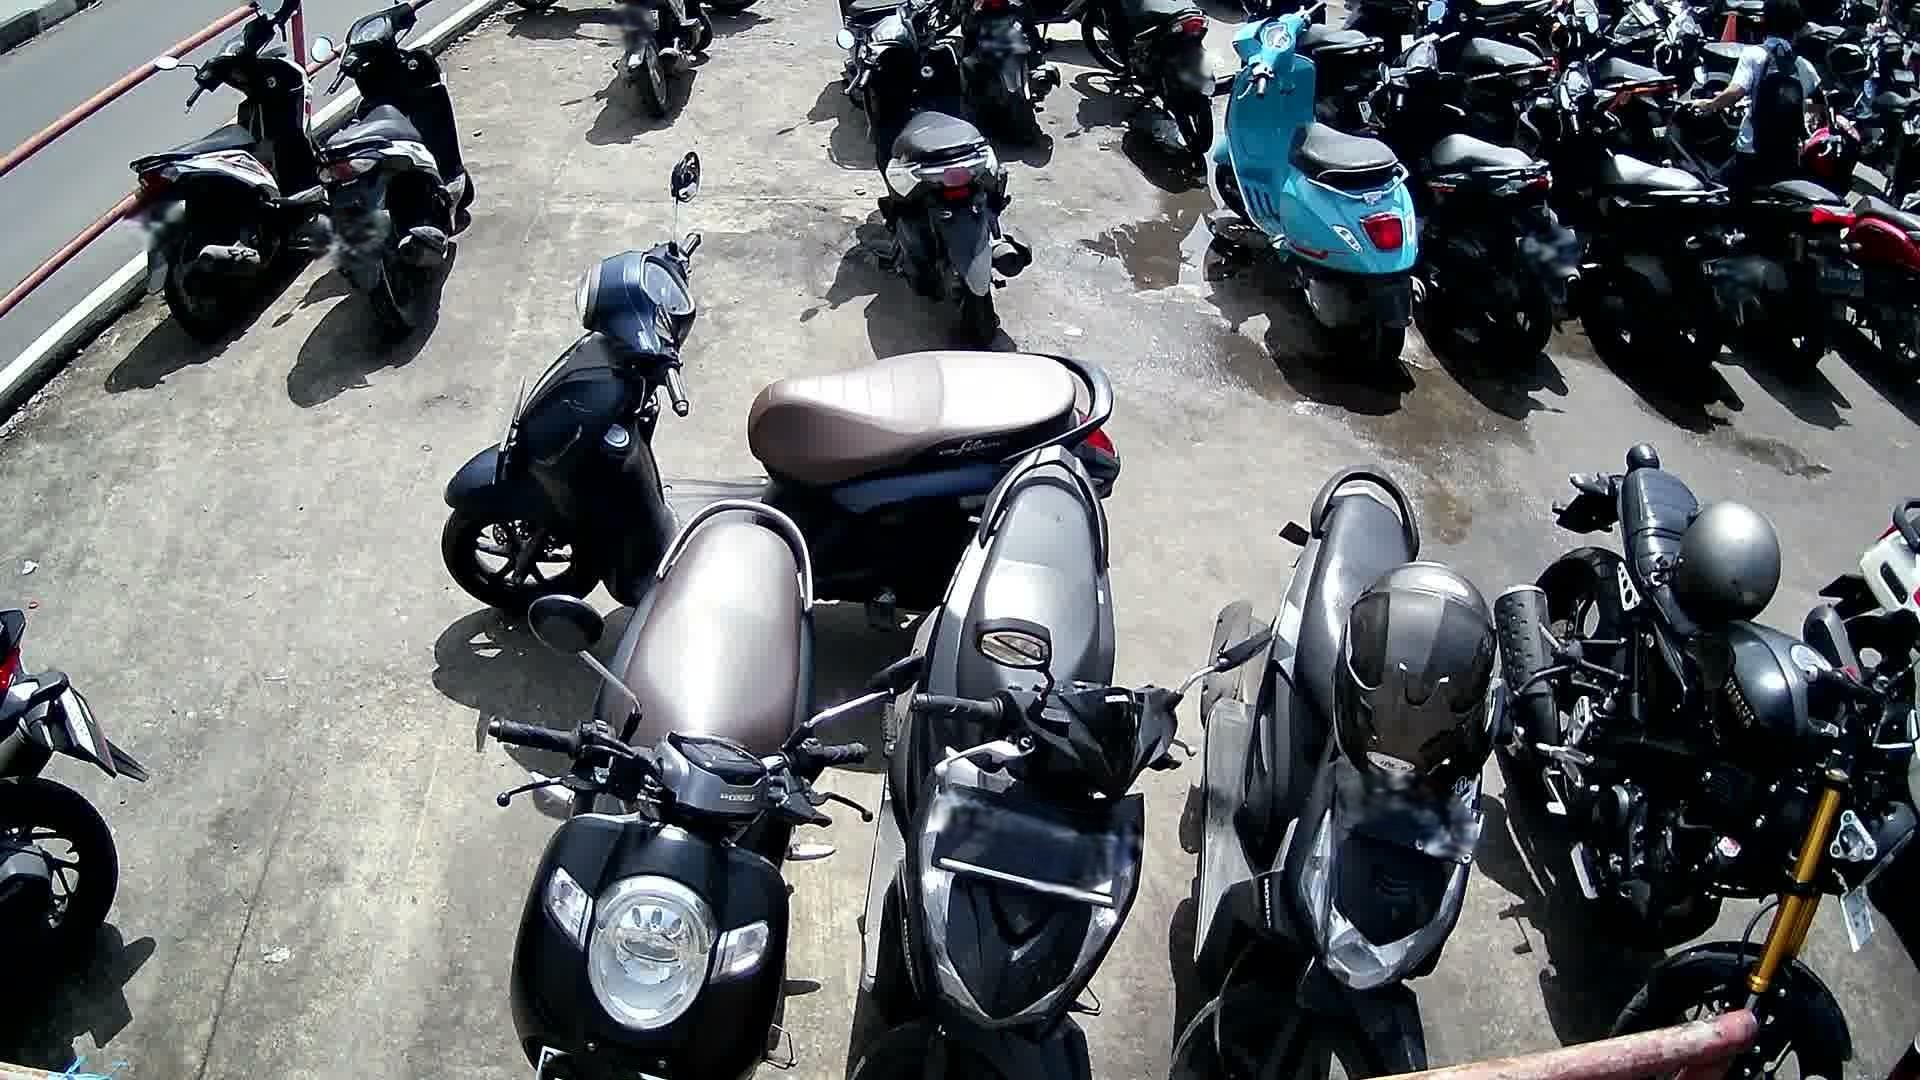motorcycle: (441, 152, 1120, 614), (1493, 441, 1920, 1079), (488, 499, 922, 1080), (849, 439, 1237, 1080), (1171, 465, 1511, 1080), (1354, 0, 1582, 378), (1212, 0, 1430, 387), (1510, 45, 1738, 379), (836, 0, 1030, 355), (1655, 63, 1860, 378), (126, 0, 313, 337), (311, 0, 479, 341), (1790, 109, 1920, 382)
